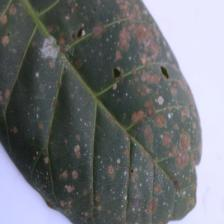red rust: (0, 0, 203, 224)
